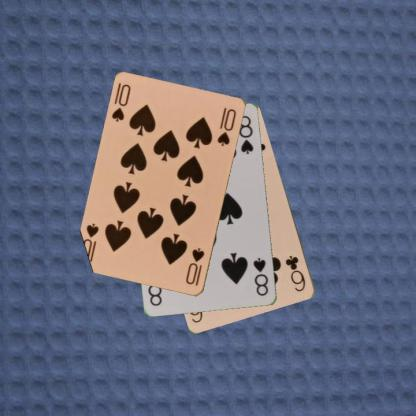10s: (183, 245, 206, 288), (110, 82, 132, 124)
6c: (283, 253, 308, 293)
8s: (251, 256, 270, 298)
